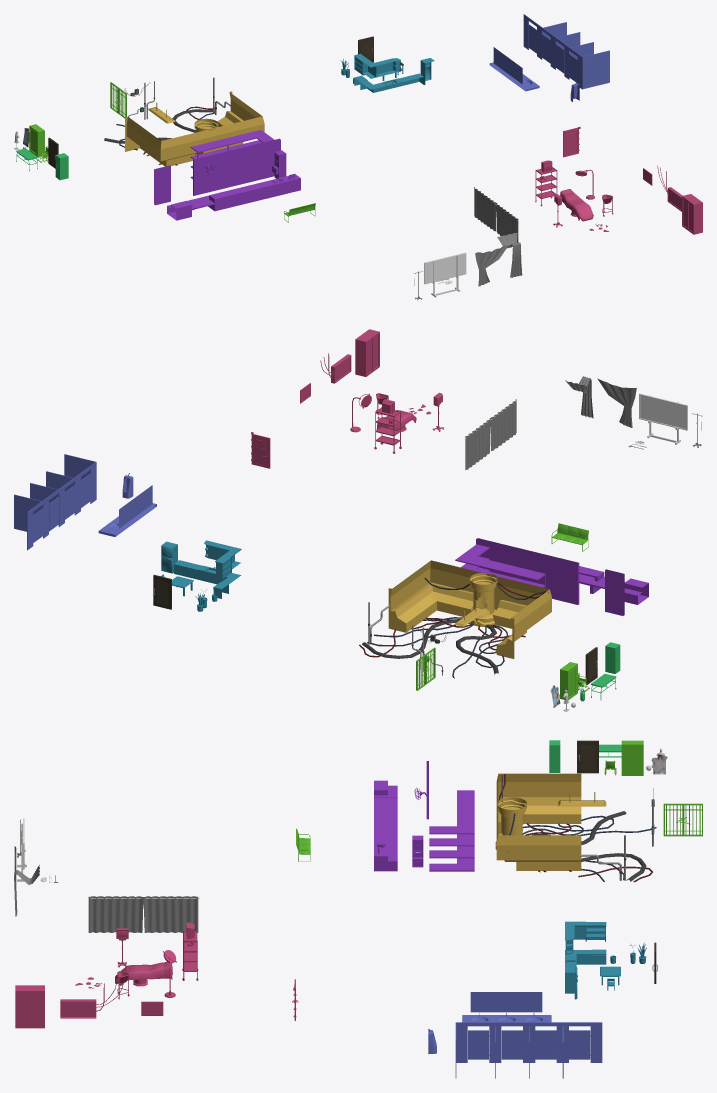
The model's file is 1S_O_UV_ALL.fbx.
The picture shows the model from 3 angles, top to bottom: view 1: azimuth 30°, elevation 25°; view 2: azimuth 150°, elevation 25°; view 3: azimuth 270°, elevation 25°; orthographic projection. The views are drawn at different scales.
Parts seen in each view (by area): view 1: 1S_O_FackWall, 1S_O_Dashboard, 1S_O_Partition, 1S_O_Counter, 1S_O_Bord, 1S_O_StorageDrawer, 1S_O_Curtain2, 1S_O_OperatTable, 1S_O_Cupboard, 1S_O_Case, 1S_O_Curtain4, 1S_O_Curtain3 (+5 smaller); view 2: 1S_O_Dashboard, 1S_O_FackWall, 1S_O_Partition, 1S_O_Bord, 1S_O_StorageDrawer, 1S_O_Counter, 1S_O_Curtain1, 1S_O_FloorBWire, 1S_O_Curtain2, 1S_O_Sink, Line024, 1S_O_Case (+6 smaller); view 3: 1S_O_Dashboard, 1S_O_Partition, 1S_O_PartitionDoor (×4), 1S_O_StorageDrawer, 1S_O_Curtain1, 1S_O_Curtain2, 1S_O_Counter, 1S_O_Mirror, 1S_O_Case, 1S_BarbedWire, 1S_O_OperatTable, 1S_O_X-ray (+7 smaller).
Part boxes in pixels (<box>): 1S_O_FackWall: <box>154,138,280,205</box>; 1S_O_Dashboard: <box>125,91,264,166</box>; 1S_O_Partition: <box>523,14,609,89</box>; 1S_O_Counter: <box>167,174,300,220</box>; 1S_O_Bord: <box>424,252,466,297</box>; 1S_O_StorageDrawer: <box>190,130,274,178</box>; 1S_O_Curtain2: <box>474,187,496,231</box>; 1S_O_OperatTable: <box>560,189,593,221</box>; 1S_O_Cupboard: <box>362,58,400,78</box>; 1S_O_Case: <box>682,194,702,234</box>; 1S_O_Curtain4: <box>475,245,508,286</box>; 1S_O_Curtain3: <box>497,233,522,277</box>; 1S_O_Dashboard: <box>388,560,551,658</box>; 1S_O_FackWall: <box>476,538,624,615</box>; 1S_O_Partition: <box>14,454,96,550</box>; 1S_O_Bord: <box>639,393,687,444</box>; 1S_O_StorageDrawer: <box>455,544,545,588</box>; 1S_O_Counter: <box>579,566,648,604</box>; 1S_O_Curtain1: <box>490,399,516,450</box>; 1S_O_FloorBWire: <box>362,619,498,674</box>; 1S_O_Curtain2: <box>465,418,490,469</box>; 1S_O_Sink: <box>174,560,241,584</box>; Line024: <box>359,622,525,678</box>; 1S_O_Case: <box>355,329,379,376</box>; 1S_O_Dashboard: <box>496,773,581,870</box>; 1S_O_Partition: <box>455,1022,602,1078</box>; 1S_O_PartitionDoor (×4): <box>468,1030,590,1059</box>; 1S_O_StorageDrawer: <box>429,790,474,871</box>; 1S_O_Curtain1: <box>88,896,143,932</box>; 1S_O_Curtain2: <box>143,896,198,932</box>; 1S_O_Counter: <box>374,780,397,871</box>; 1S_O_Mirror: <box>470,992,542,1012</box>; 1S_O_Case: <box>15,985,44,1028</box>; 1S_BarbedWire: <box>663,803,702,836</box>; 1S_O_OperatTable: <box>115,961,172,986</box>; 1S_O_X-ray: <box>60,982,123,1018</box>.
Size of the model in its own units: 960 by 75.04 by 873.
